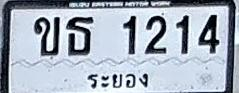1: (176, 14, 189, 54), (123, 15, 136, 54)
2: (145, 15, 166, 54)
4: (198, 14, 219, 53)
A02: (34, 16, 60, 56)
A24: (66, 16, 93, 55)
RYG: (84, 71, 154, 91)
